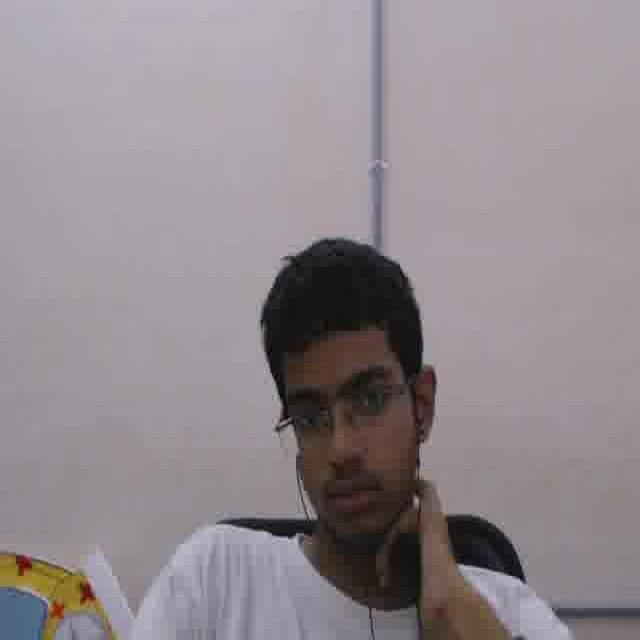Boredom: (279, 327, 414, 540)
